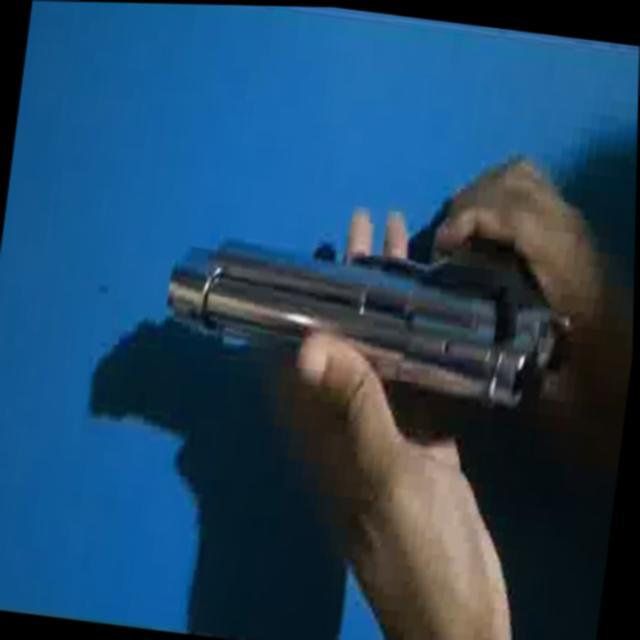weapon: (158, 228, 581, 418)
